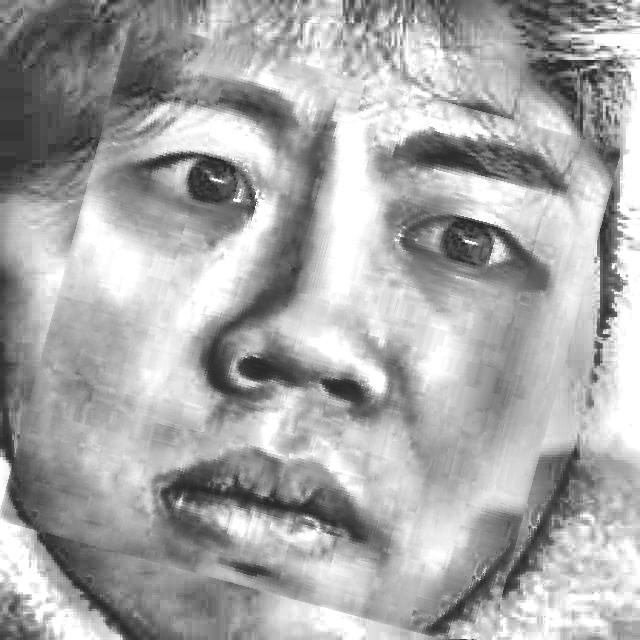fear: (26, 47, 591, 623)
